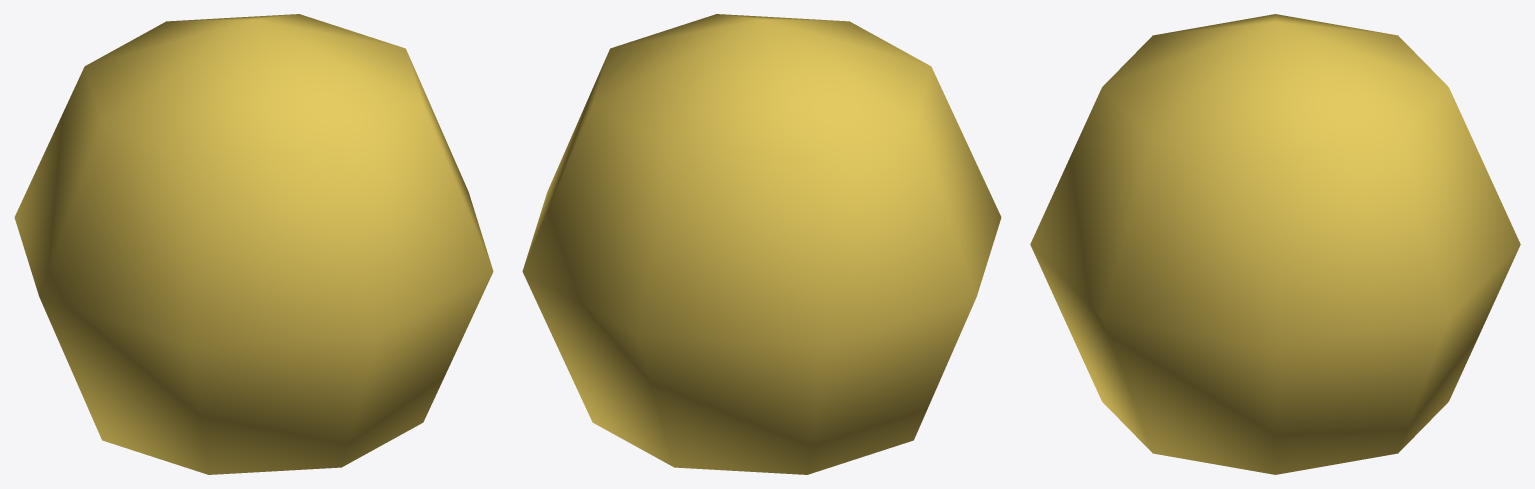
File: Cannon-ball.obj
3 views of the same model, side by side, from view 1: azimuth 30°, elevation 25°; view 2: azimuth 150°, elevation 25°; view 3: azimuth 270°, elevation 25° (orthographic).
Visible parts, largest first — view 1: Sphere001; view 2: Sphere001; view 3: Sphere001.
Part boxes in pixels (bbox=[...]): Sphere001: bbox=[14, 14, 493, 474]; Sphere001: bbox=[522, 14, 1001, 474]; Sphere001: bbox=[1030, 14, 1520, 474].
Size of the model in its own units: 51.6 by 51.6 by 51.6.
